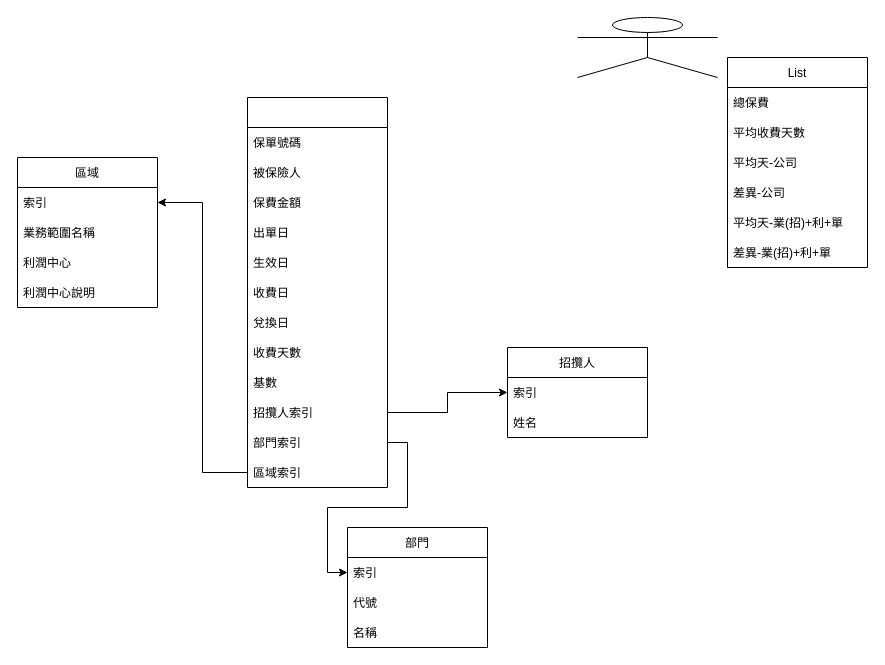
Image size: 885x665. Some labels were removed from this diagram. Each missing label, with the box of its shape:
Actor: (576, 16, 718, 78)
保單: (246, 96, 388, 488)
